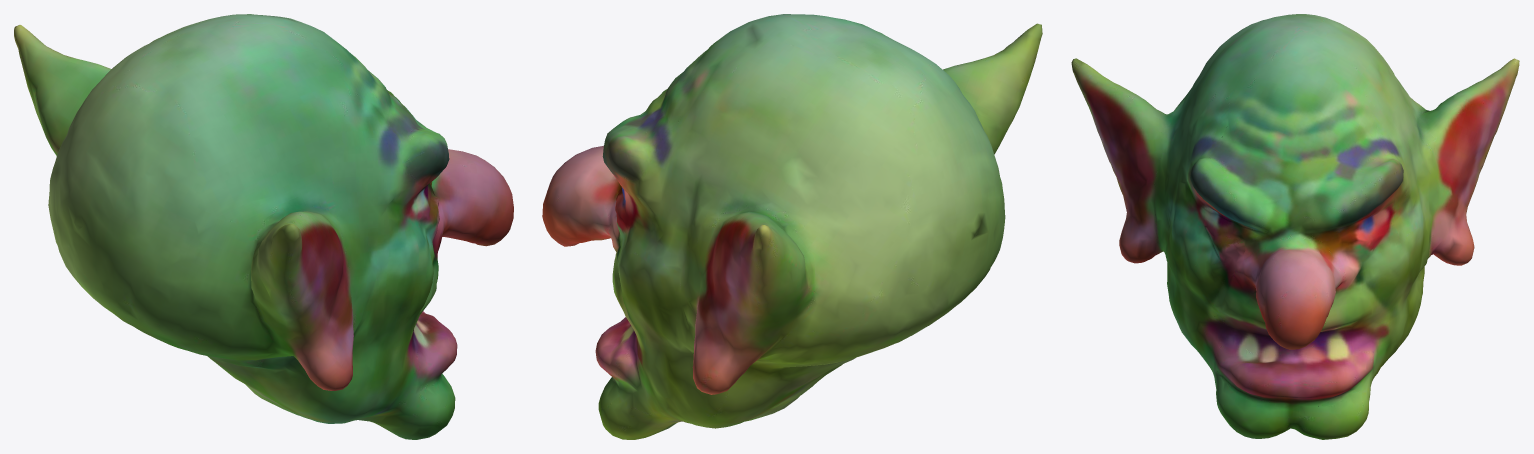
The picture shows the model from 3 angles, left to right: view 1: azimuth 30°, elevation 25°; view 2: azimuth 150°, elevation 25°; view 3: azimuth 270°, elevation 25°; orthographic projection. The views are drawn at different scales.
Parts seen in each view (by area): view 1: Mesh1; view 2: Mesh1; view 3: Mesh1.
Boxes of the visible parts, x1=… form: Mesh1: x1=14, y1=14, x2=513, y2=439; Mesh1: x1=542, y1=14, x2=1042, y2=439; Mesh1: x1=1071, y1=14, x2=1519, y2=439.
Bounding box in the file's own units: 1.07 × 1.02 × 1.2.
1 material, 1 textured.
